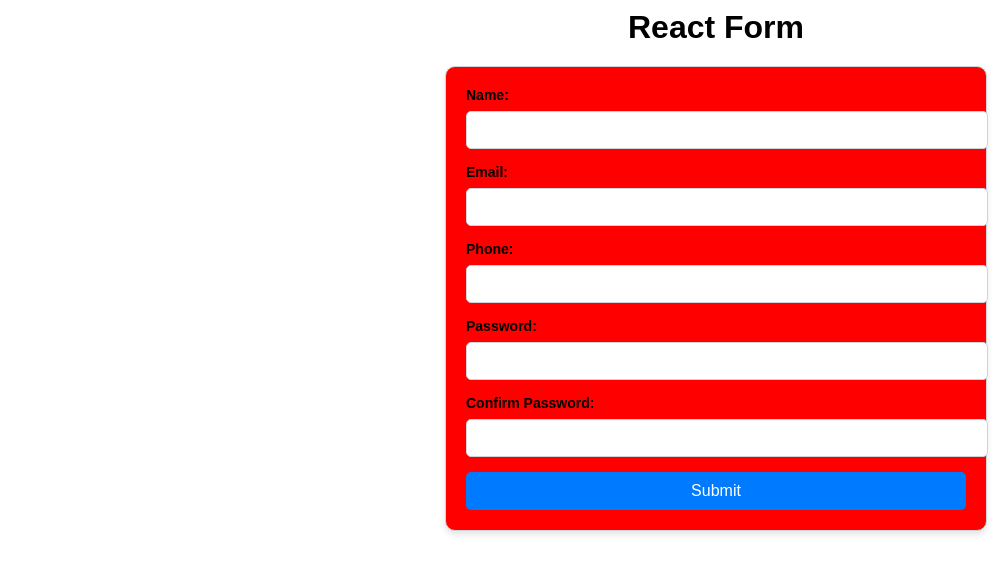
Test case: Form Validation Tests › should show an error if passwords do not match
In the field labelled "Name:": (727, 130) [466,111,988,149], type "John Doe"
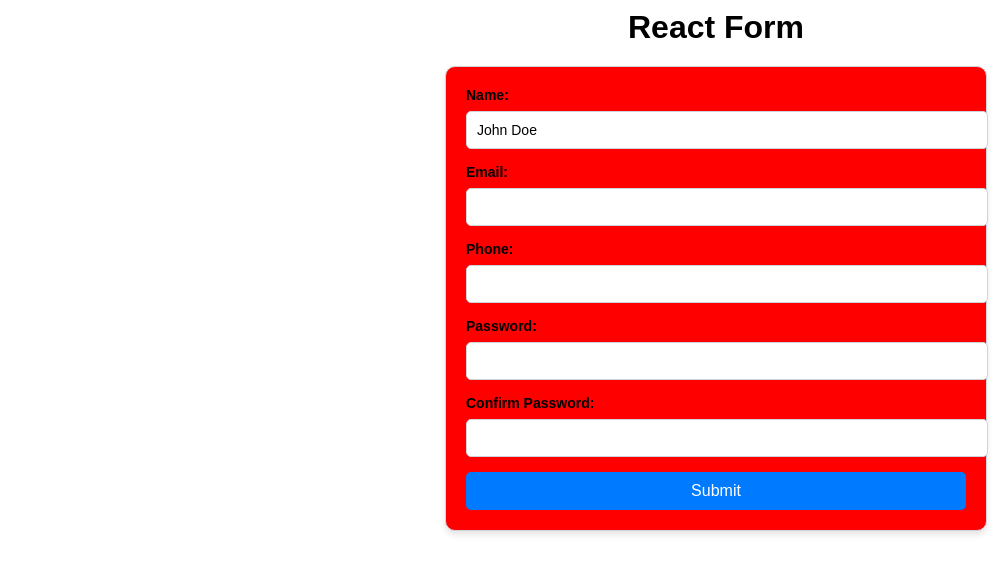
In the field labelled "Email:": (727, 207) [466,188,988,226], type "john.doe@example.com"
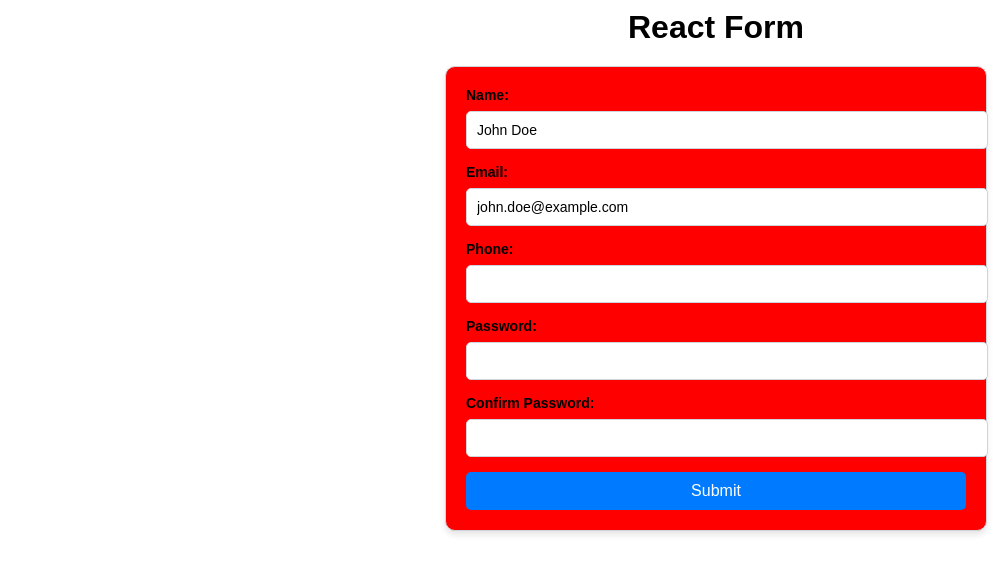
In the field labelled "Phone:": (727, 284) [466,265,988,303], type "1234567890"
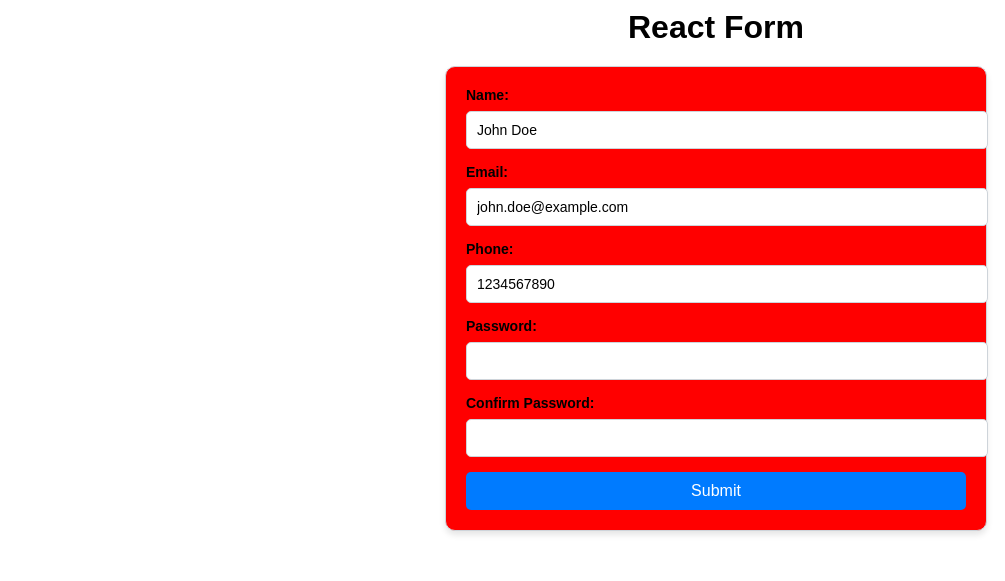
In the password field labelled "Password:": (727, 361) [466,342,988,380], type "password123"
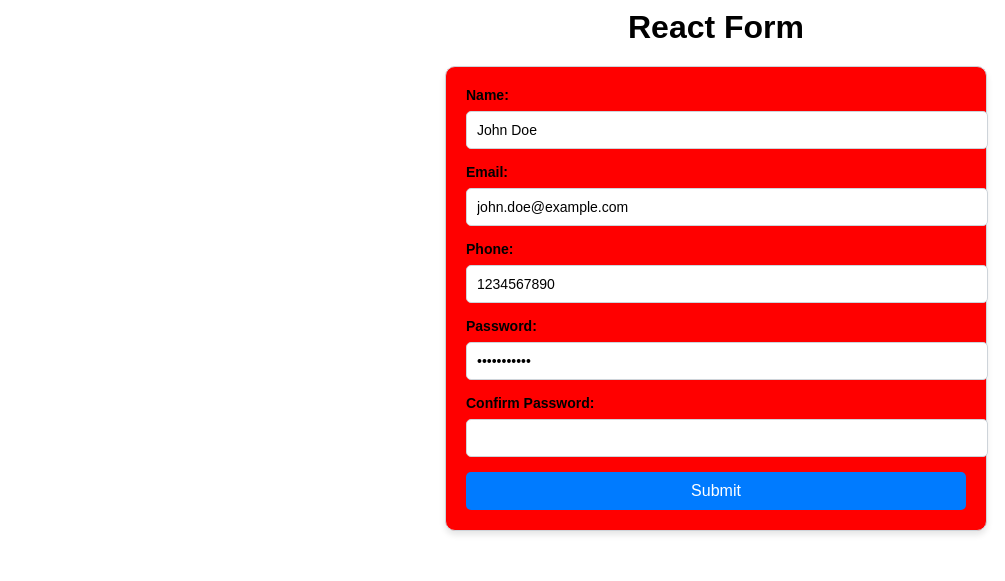
In the password field labelled "Confirm Password:": (727, 438) [466,419,988,457], type "different123"
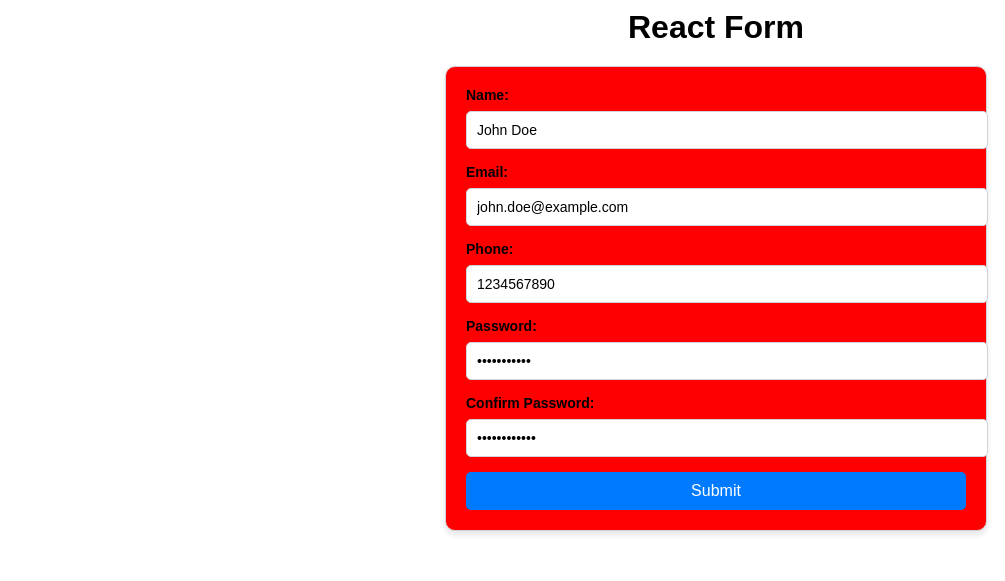
Click the button "Submit": (716, 491) [466,472,966,510]
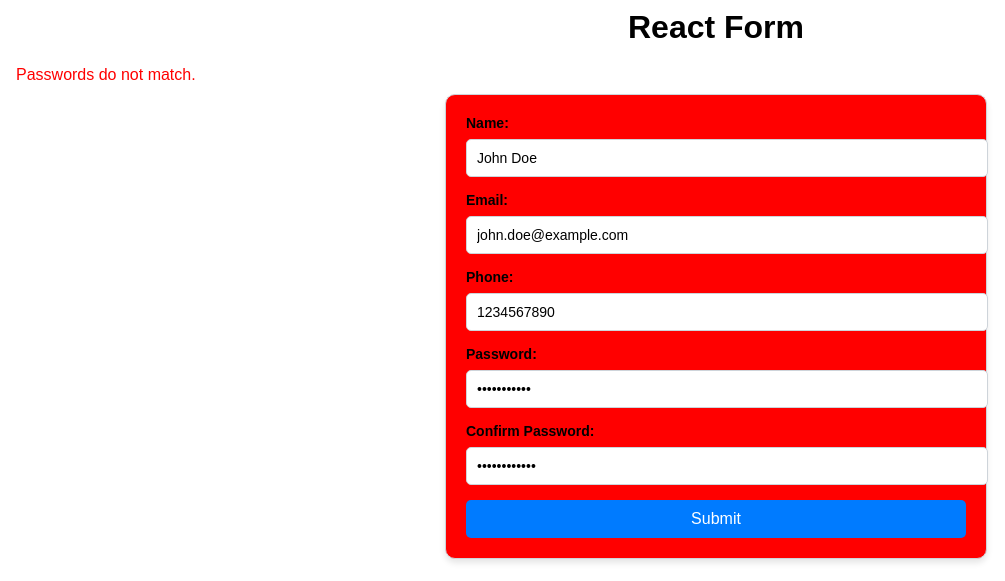
Expected: the text "Passwords do not match." is shown, [16,66,196,83]
